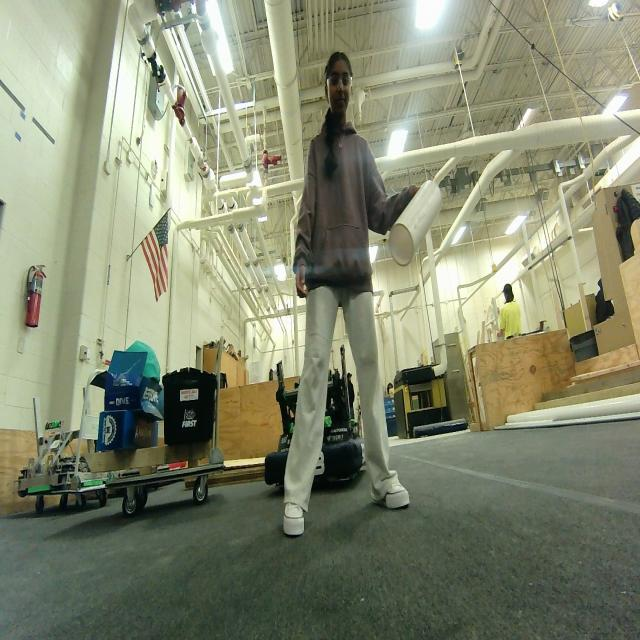coral: (390, 178, 443, 276)
